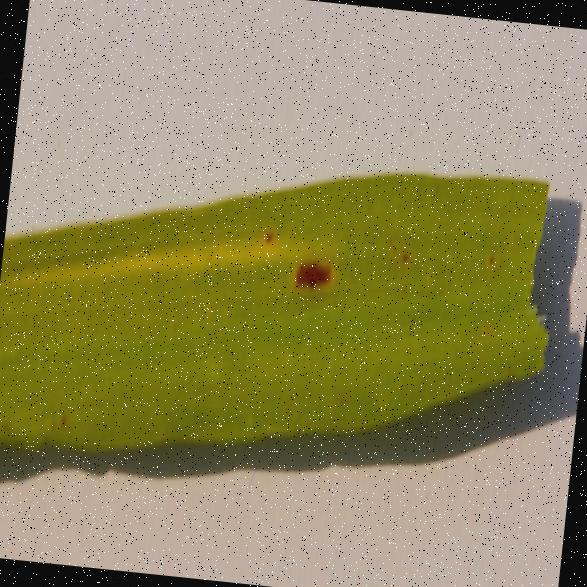Brown_Spot: (280, 243, 345, 294)
